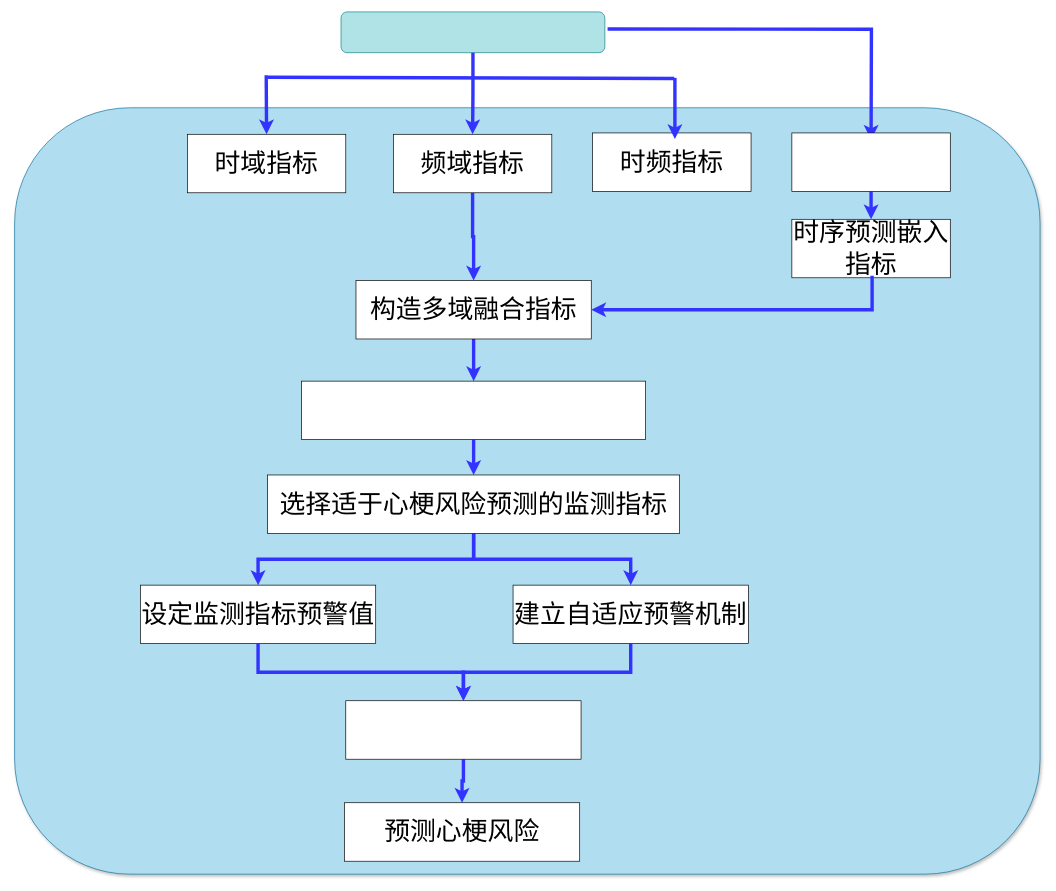
This 1056x891 diagram has some shape labels left out. Each missing label, with the centre of its shape:
多模态时序预测模型: point 870,161
建立监测指标有效性评估准则: point 473,410
确定急性心梗临界点: point 463,729
规范化的多模态数据: point 472,32
